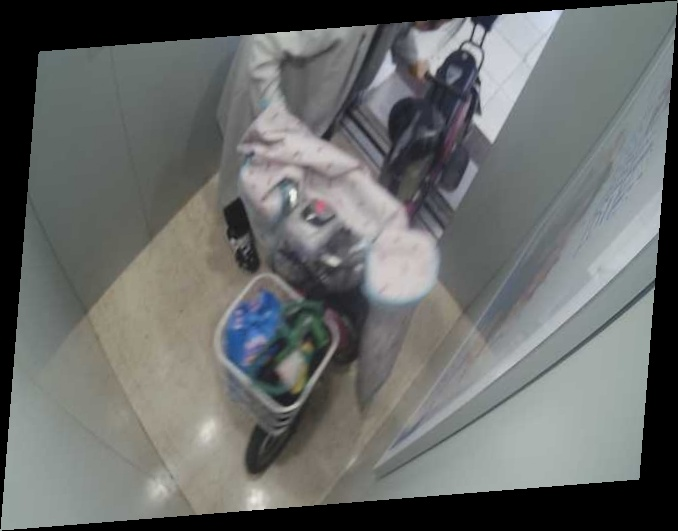electromobile: (191, 151, 440, 475)
